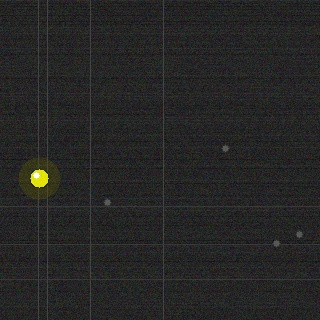yellow_warning: (28, 167, 50, 189)
